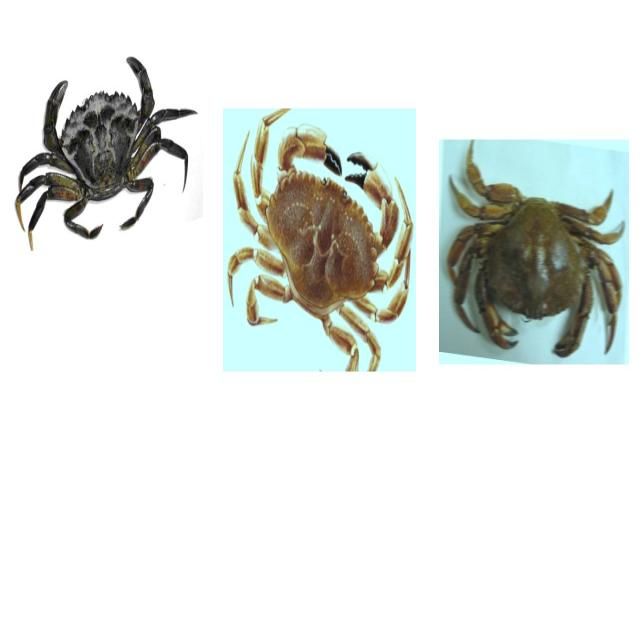egc: (12, 54, 190, 245)
jonah_crab: (220, 108, 419, 369)
rock_crab: (445, 145, 626, 363)
